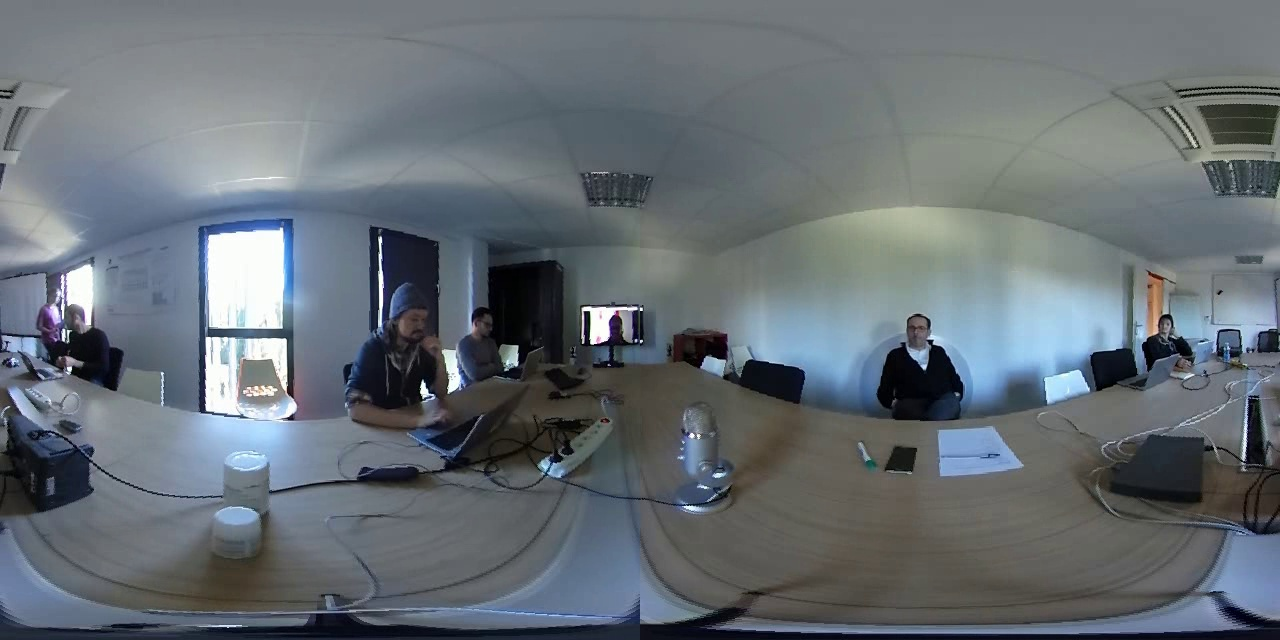person: (347, 277, 447, 431), (876, 304, 964, 422), (62, 298, 111, 388), (453, 300, 505, 377), (1141, 307, 1188, 356), (588, 303, 641, 340), (37, 279, 58, 356)
